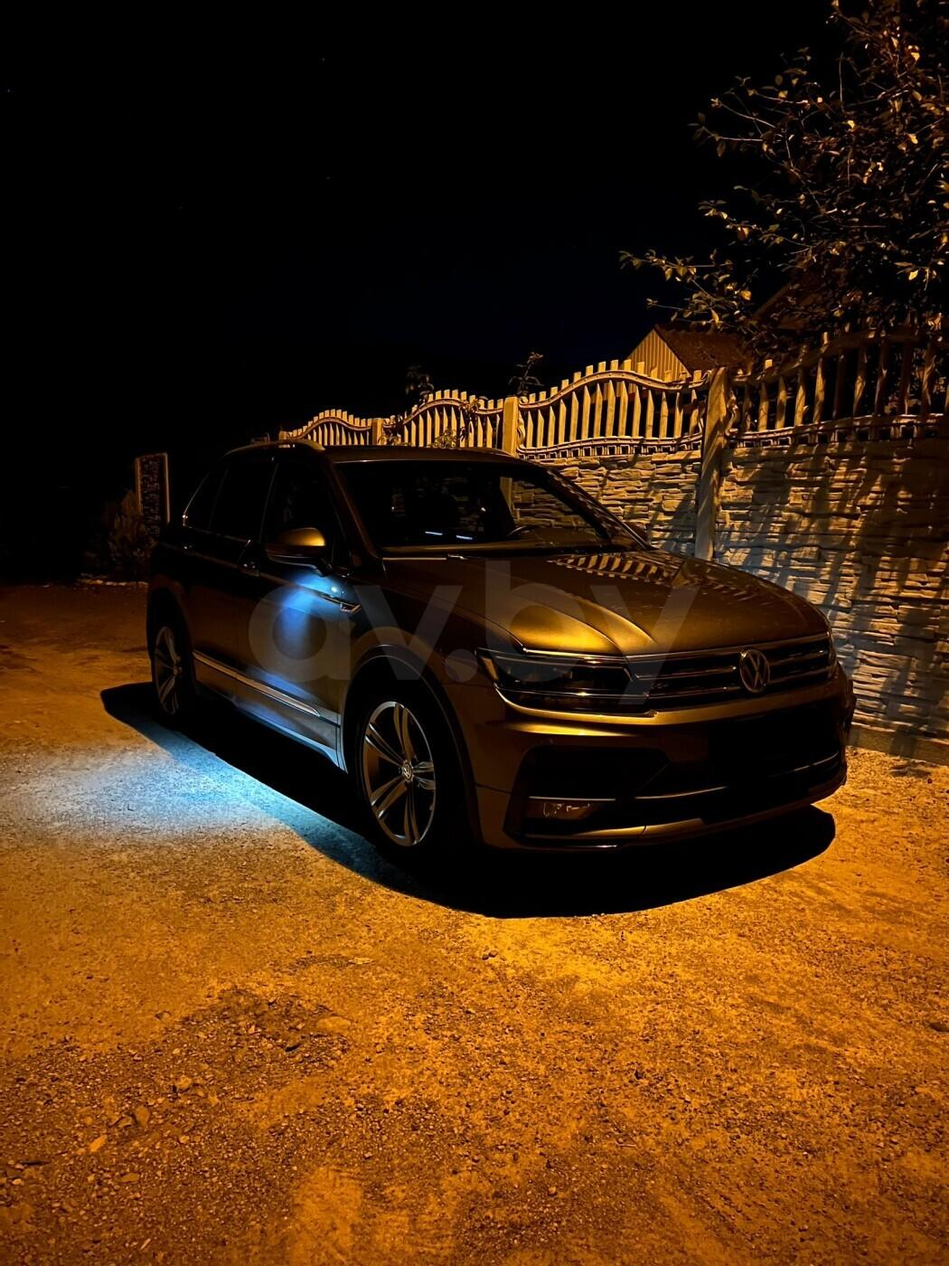Tiguan_2020-2024: (137, 434, 857, 904)
